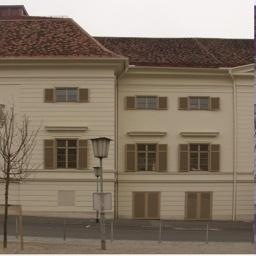building: (0, 16, 256, 218)
